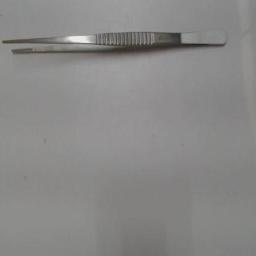DeBakey Dissector: (2, 23, 234, 59)
